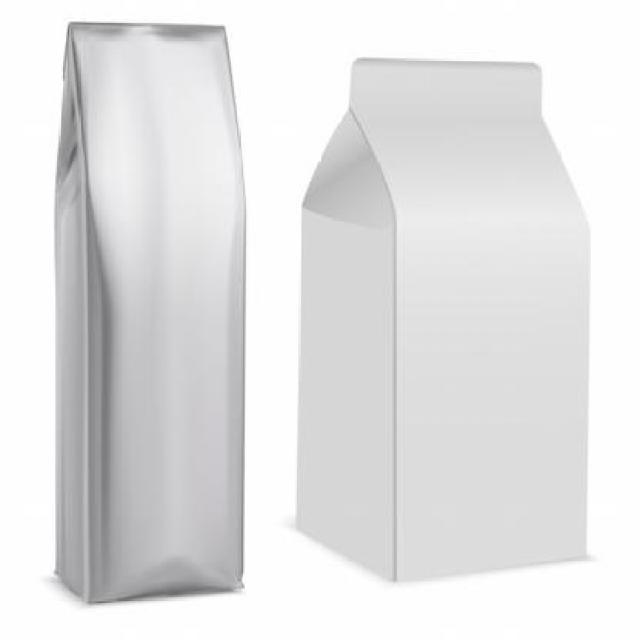non_white_jug: (292, 39, 603, 599)
